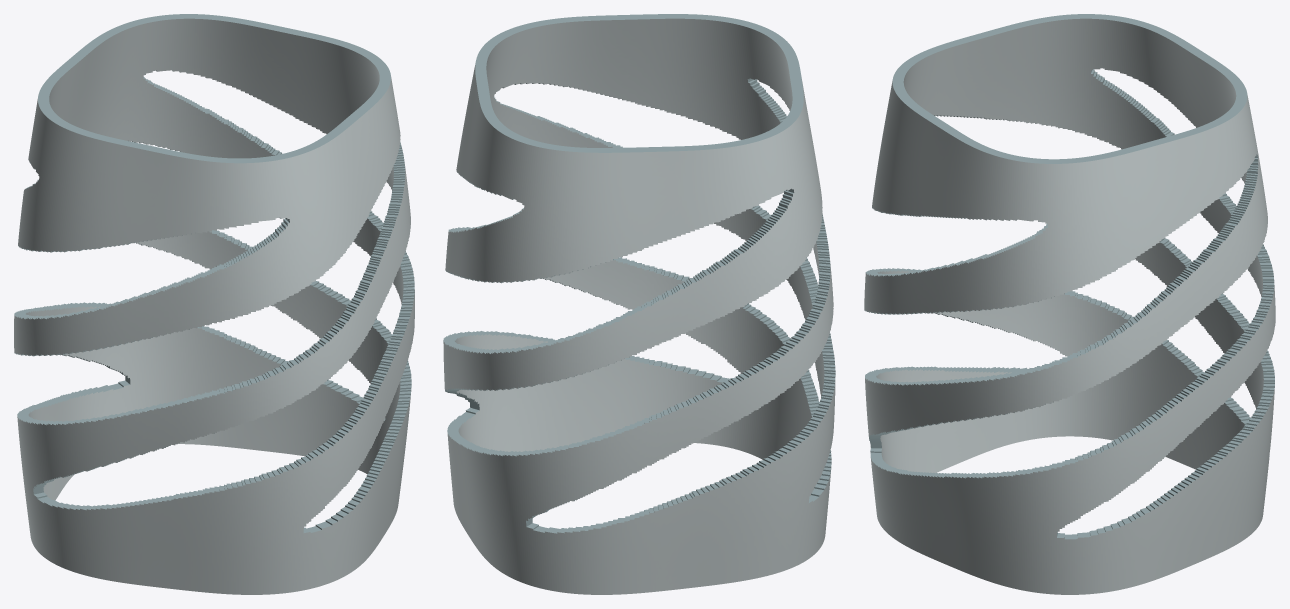
Rendered from torsion-ribbon-lantern.glb.
The picture shows the model from 3 angles, left to right: view 1: azimuth 30°, elevation 25°; view 2: azimuth 150°, elevation 25°; view 3: azimuth 270°, elevation 25°; orthographic projection. The views are drawn at different scales.
Visible parts, largest first — view 1: torsion-ribbon-lantern; view 2: torsion-ribbon-lantern; view 3: torsion-ribbon-lantern.
Part boxes in pixels (bbox=[...]): torsion-ribbon-lantern: bbox=[14, 14, 414, 594]; torsion-ribbon-lantern: bbox=[443, 14, 835, 594]; torsion-ribbon-lantern: bbox=[864, 14, 1275, 594].
Bounding box in the file's own units: 146 × 166 × 146.
